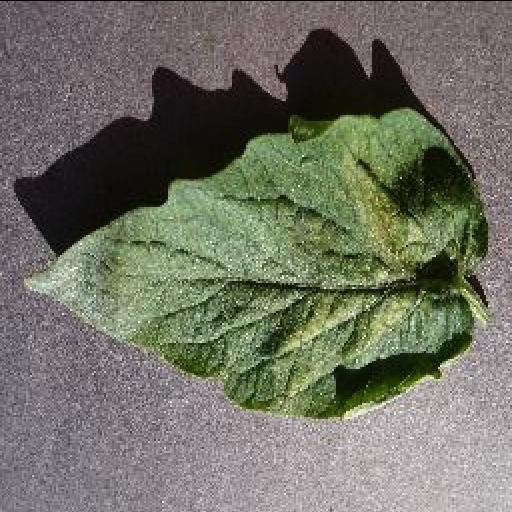disease_tomato: (18, 108, 486, 416)
